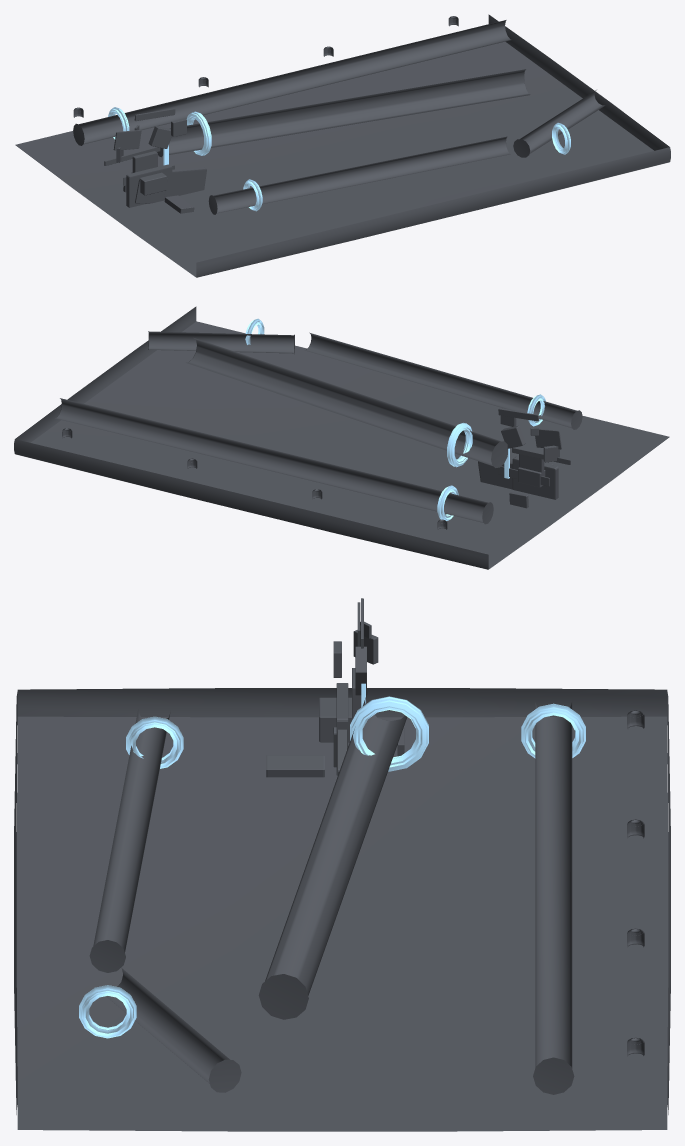
Rendered from greeble_fuel_coupling.glb.
The picture shows the model from 3 angles, top to bottom: view 1: azimuth 30°, elevation 25°; view 2: azimuth 150°, elevation 25°; view 3: azimuth 270°, elevation 25°; orthographic projection. The views are drawn at different scales.
Visible parts, largest first — view 1: Pipe_Base, greeble_pipes_Material_Mechanical_Merged, greeble_pipes_Material_Accent_Merged, DET_pipe_soot_band, DET_mount_flange, DET_coupling_valve, DET_micro_scratch_plate, DET_flange_joint, DET_pipe_elbow; view 2: Pipe_Base, greeble_pipes_Material_Mechanical_Merged, greeble_pipes_Material_Accent_Merged, DET_mount_flange, DET_pipe_soot_band, DET_micro_scratch_plate, DET_pipe_elbow, DET_coupling_valve; view 3: Pipe_Base, greeble_pipes_Material_Mechanical_Merged, greeble_pipes_Material_Accent_Merged, DET_fuel_stain_drip, DET_coupling_valve.
Part boxes in pixels (left/top/right/bottom): Pipe_Base: left=15, top=14, right=670, bottom=277; greeble_pipes_Material_Mechanical_Merged: left=73, top=16, right=605, bottom=214; greeble_pipes_Material_Accent_Merged: left=108, top=107, right=570, bottom=211; DET_pipe_soot_band: left=172, top=167, right=206, bottom=195; DET_mount_flange: left=126, top=164, right=172, bottom=207; DET_coupling_valve: left=131, top=172, right=166, bottom=195; DET_micro_scratch_plate: left=113, top=130, right=141, bottom=150; DET_flange_joint: left=132, top=151, right=157, bottom=172; DET_pipe_elbow: left=148, top=126, right=171, bottom=148; Pipe_Base: left=14, top=306, right=669, bottom=569; greeble_pipes_Material_Mechanical_Merged: left=55, top=331, right=582, bottom=529; greeble_pipes_Material_Accent_Merged: left=245, top=318, right=545, bottom=520; DET_mount_flange: left=512, top=456, right=558, bottom=499; DET_pipe_soot_band: left=478, top=461, right=512, bottom=489; DET_micro_scratch_plate: left=535, top=429, right=561, bottom=449; DET_pipe_elbow: left=501, top=425, right=525, bottom=448; DET_coupling_valve: left=518, top=462, right=553, bottom=487; Pipe_Base: left=14, top=688, right=670, bottom=1131; greeble_pipes_Material_Mechanical_Merged: left=89, top=692, right=644, bottom=1094; greeble_pipes_Material_Accent_Merged: left=79, top=696, right=585, bottom=1038; DET_fuel_stain_drip: left=266, top=755, right=324, bottom=777; DET_coupling_valve: left=319, top=697, right=353, bottom=742.
Bounding box in the file's own units: 4.2 × 0.8858 × 2.8.
